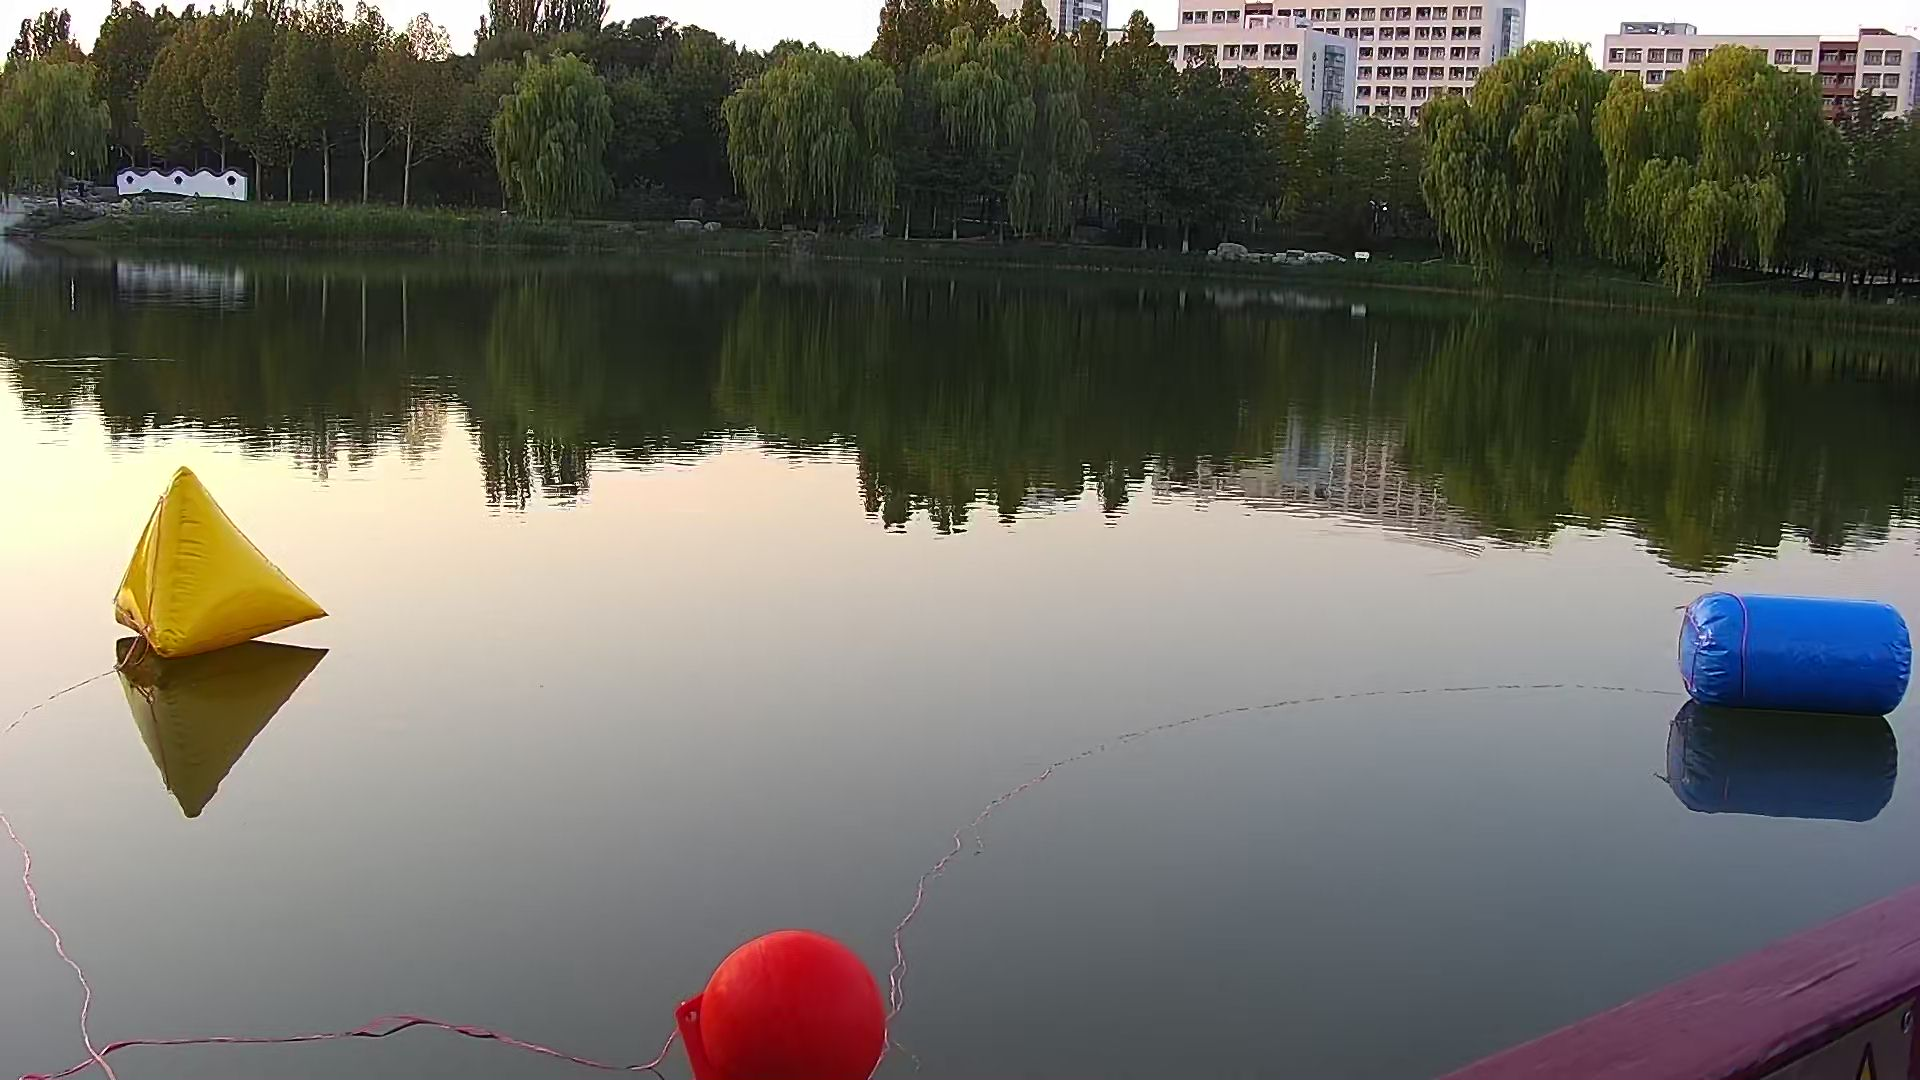ball: (682, 931, 890, 1079)
rubbish: (111, 458, 338, 673), (1673, 585, 1920, 723)
